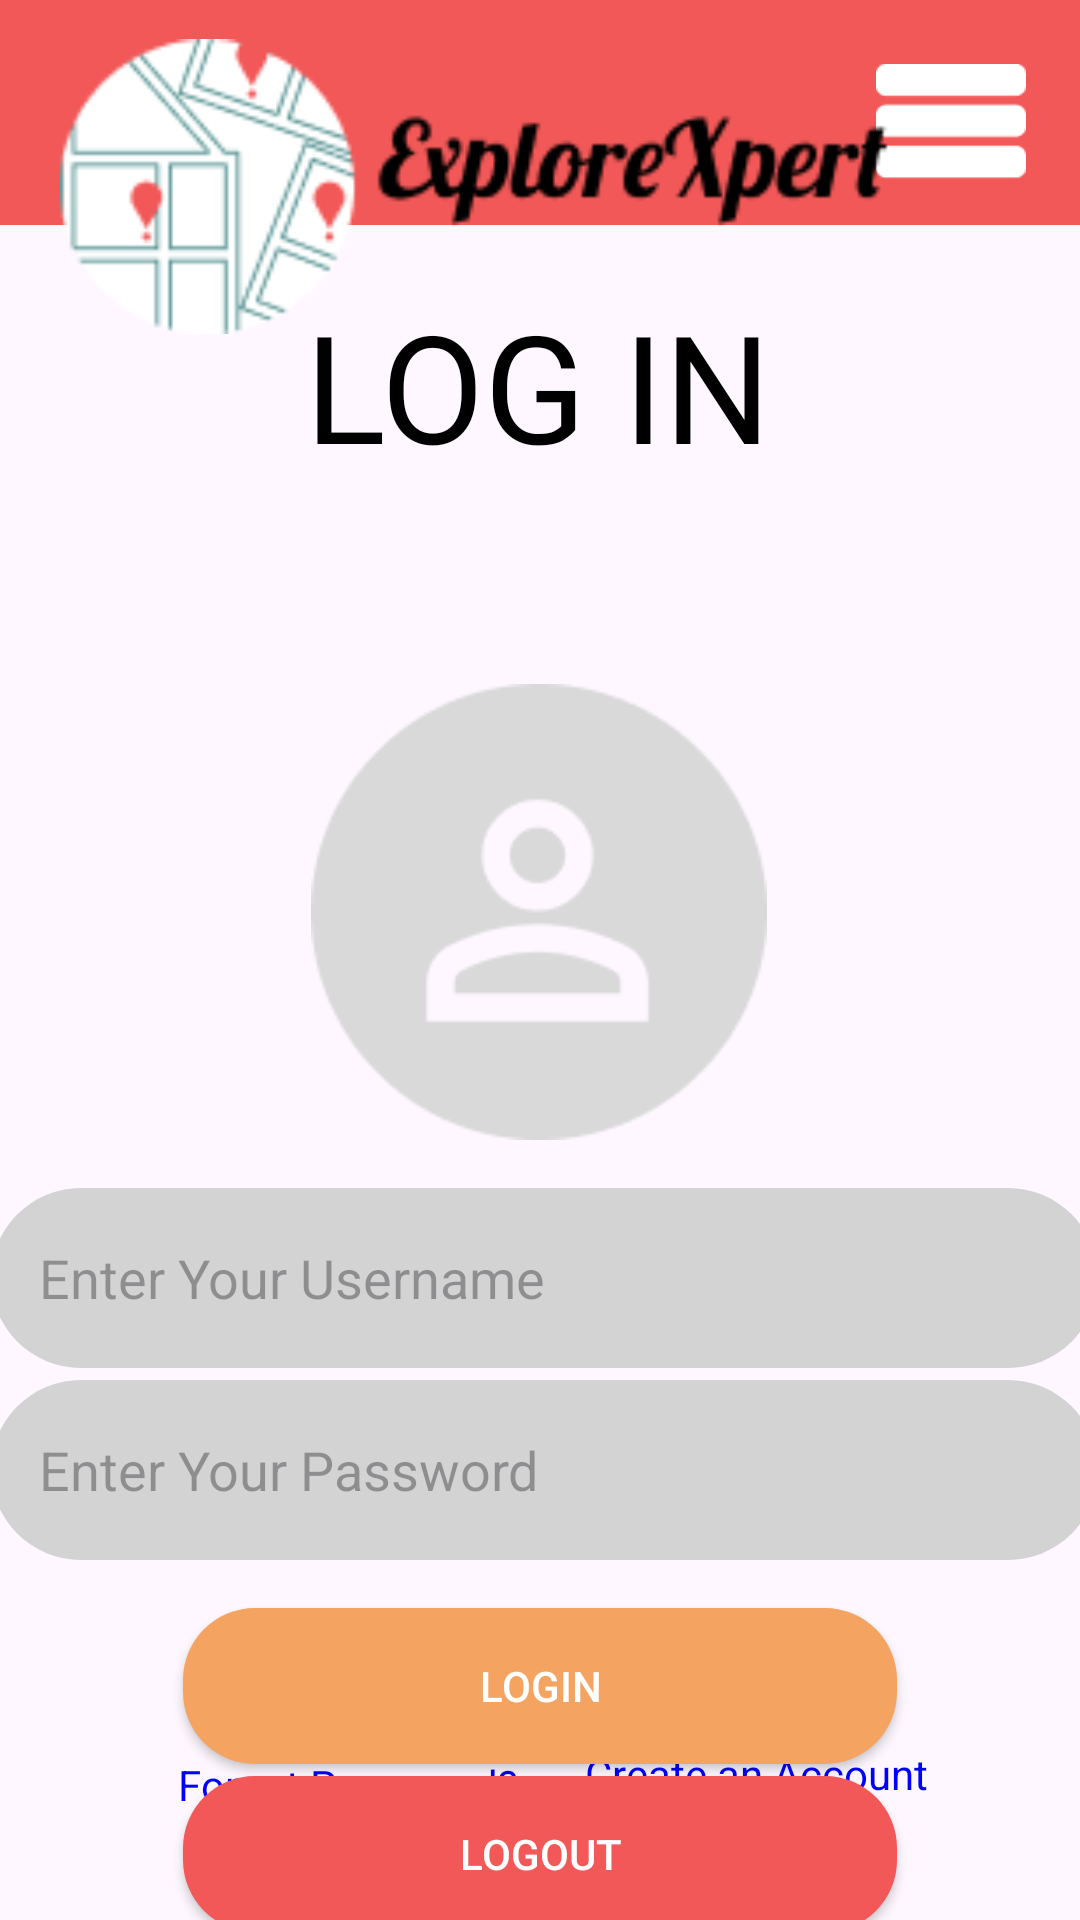

Named icons in this screenshot (1080x1920) and their bounding boxes, BBox(x1, y1, x2, y2):
Menu Button: BBox(876, 64, 1026, 196)
